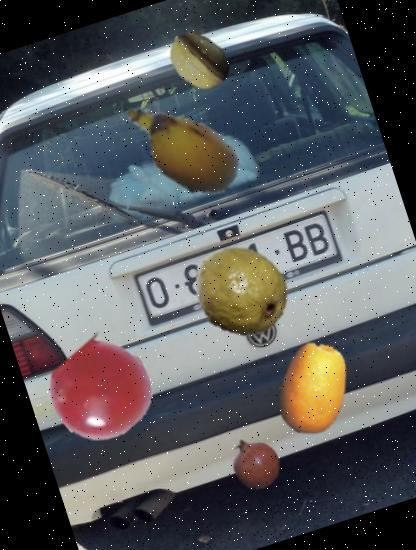Banana: (100, 66, 260, 226)
Carambula: (158, 19, 240, 101)
Guava: (178, 229, 302, 354)
Kumquats: (255, 330, 372, 448)
Pomegranate: (220, 428, 289, 497)
Redcurrant: (38, 328, 164, 453)
